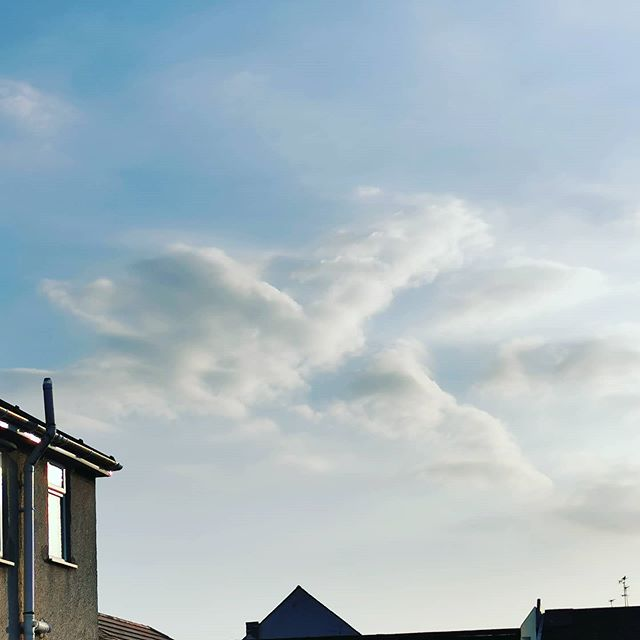building: (1, 380, 141, 640)
sky: (1, 1, 640, 613)
